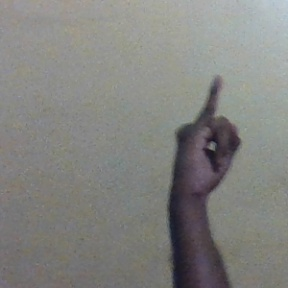I: (167, 73, 242, 200)
